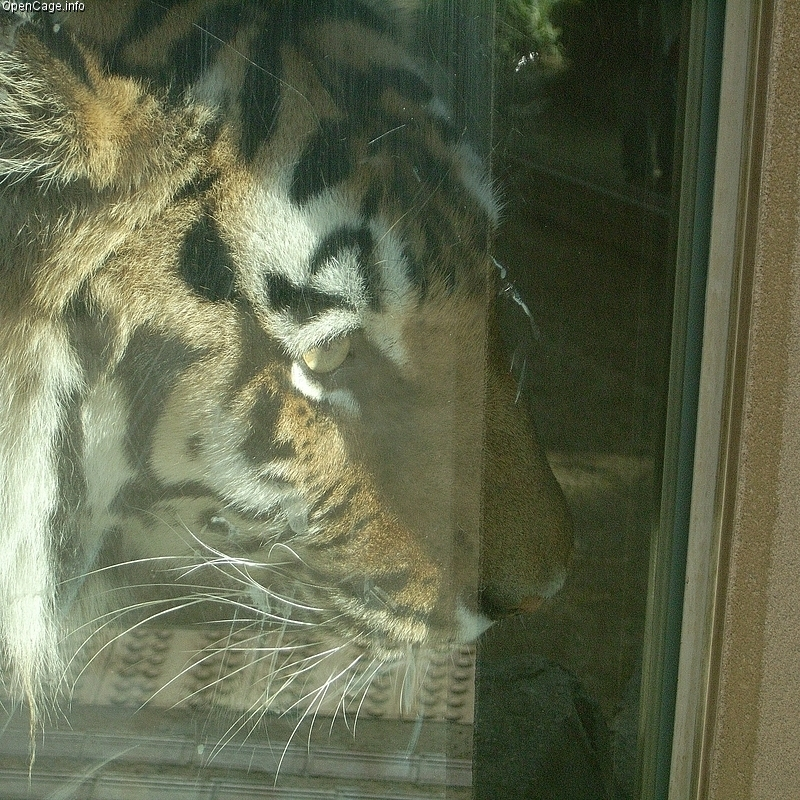Tigre: (147, 111, 555, 652)
